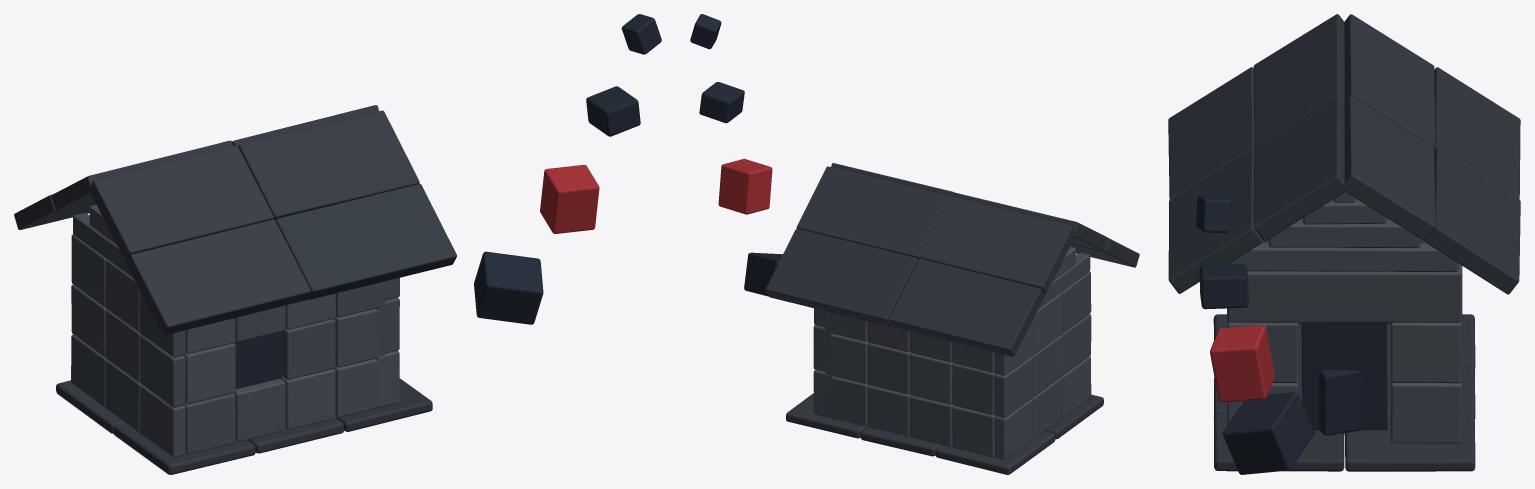
File: house.glb
3 views of the same model, side by side, from view 1: azimuth 30°, elevation 25°; view 2: azimuth 150°, elevation 25°; view 3: azimuth 270°, elevation 25° (orthographic). The views are drawn at different scales.
Visible parts, largest first — view 1: frag46, frag48, frag45, frag47, lift0, lift1, frag9, frag12, frag11, frag7, frag6, frag0 (+27 smaller); view 2: frag50, frag52, frag49, frag51, lift1, frag25, frag1, frag21, frag22, frag24, frag19, frag18 (+27 smaller); view 3: lintel, frag47, frag51, frag52, frag49, frag45, frag48, frag46, frag50, reveal, lift0, frag57 (+16 smaller).
Part boxes in pixels (left/top/right/bottom): frag46: left=126, top=219, right=311, bottom=335; frag48: left=275, top=184, right=456, bottom=299; frag45: left=89, top=145, right=273, bottom=261; frag47: left=238, top=110, right=419, bottom=220; lift0: left=474, top=251, right=543, bottom=324; lift1: left=540, top=165, right=599, bottom=233; frag9: left=234, top=378, right=285, bottom=442; frag12: left=282, top=318, right=335, bottom=379; frag11: left=280, top=369, right=335, bottom=429; frag7: left=184, top=343, right=235, bottom=404; frag6: left=184, top=393, right=235, bottom=454; frag0: left=113, top=423, right=255, bottom=474; frag50: left=888, top=258, right=1044, bottom=356; frag52: left=765, top=228, right=918, bottom=326; frag49: left=920, top=196, right=1074, bottom=294; frag51: left=796, top=166, right=949, bottom=259; lift1: left=718, top=158, right=772, bottom=214; frag25: left=867, top=343, right=911, bottom=394; frag1: left=935, top=431, right=1055, bottom=474; frag21: left=910, top=395, right=953, bottom=446; frag22: left=910, top=353, right=953, bottom=404; frag24: left=867, top=385, right=911, bottom=436; frag19: left=952, top=363, right=995, bottom=415; frag18: left=952, top=405, right=995, bottom=457; lintel: left=1227, top=263, right=1461, bottom=322; frag47: left=1254, top=95, right=1345, bottom=240; frag51: left=1343, top=95, right=1435, bottom=240; frag52: left=1425, top=148, right=1520, bottom=294; frag49: left=1344, top=14, right=1435, bottom=147; frag45: left=1253, top=14, right=1344, bottom=145; frag48: left=1168, top=149, right=1262, bottom=293; frag46: left=1168, top=67, right=1254, bottom=199; frag50: left=1434, top=67, right=1520, bottom=199; reveal: left=1301, top=322, right=1387, bottom=430; lift0: left=1223, top=392, right=1314, bottom=474; frag57: left=1230, top=242, right=1458, bottom=271.
Size of the model in its own units: 5.15 by 3.32 by 2.69.
